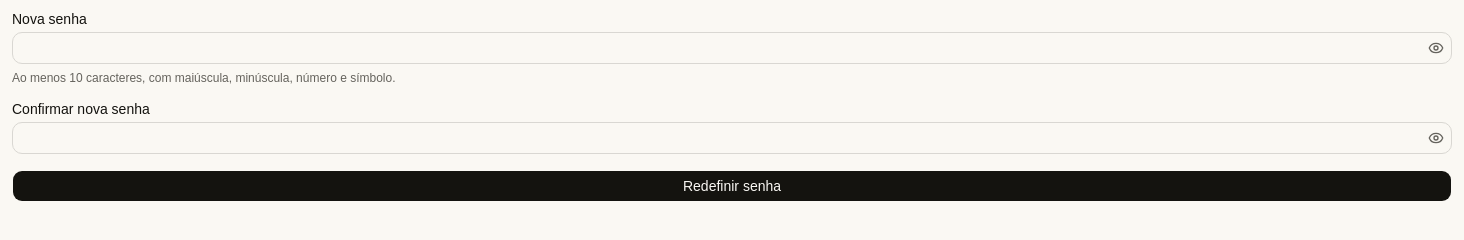
Test case: ResetPasswordForm › shows a validation error when the passwords do not match
Step 1. Type "Str0ng!Passw0rd" into the password field labelled "Nova senha" → (718, 48), box [13, 32, 1424, 64]
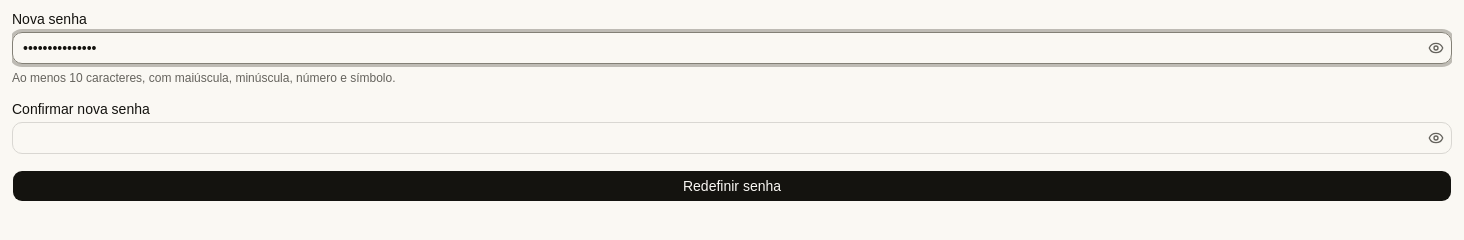
Step 2. Type "Different1!" into the password field labelled "Confirmar nova senha" → (718, 138), box [13, 122, 1424, 154]
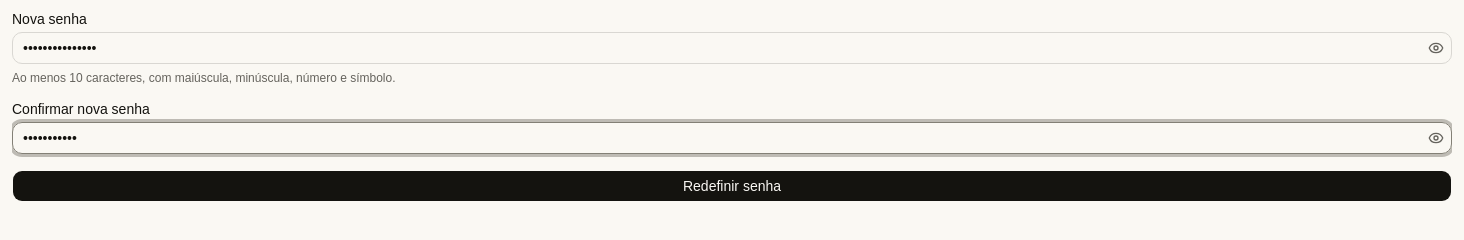
Step 3. Click the button "Redefinir senha" → (732, 186), box [12, 170, 1452, 202]
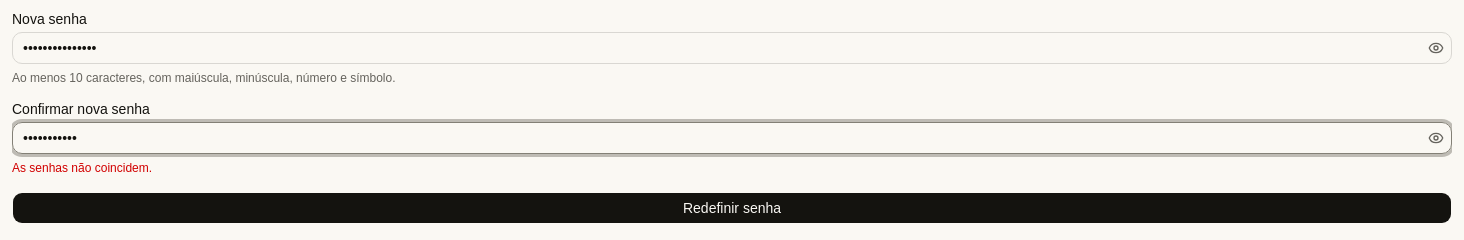
Expected: the text "As senhas não coincidem." is shown, [12, 161, 152, 175]
